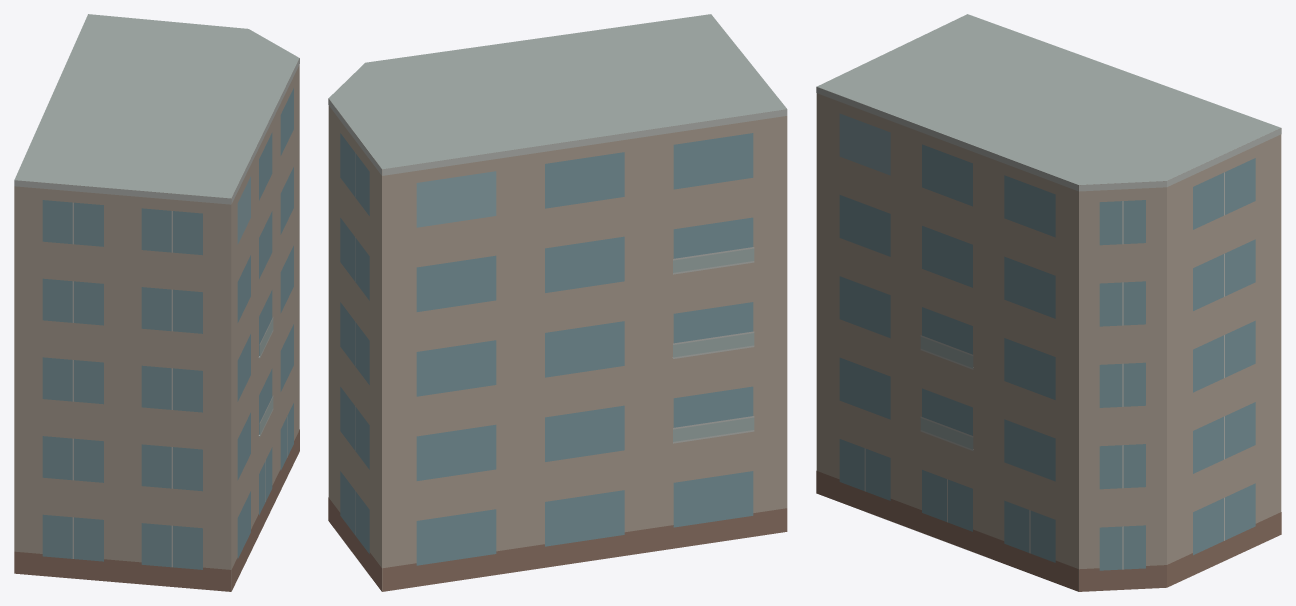
Rendered from survey-upis-33026966.glb.
3 views of the same model, side by side, from view 1: azimuth 30°, elevation 25°; view 2: azimuth 150°, elevation 25°; view 3: azimuth 270°, elevation 25° (orthographic). The views are drawn at different scales.
Parts seen in each view (by area): view 1: survey-upis-33026966.tmp; view 2: survey-upis-33026966.tmp; view 3: survey-upis-33026966.tmp.
Part boxes in pixels (x1,y1,x2,y2): survey-upis-33026966.tmp: (14, 14, 299, 591); survey-upis-33026966.tmp: (328, 14, 787, 591); survey-upis-33026966.tmp: (816, 14, 1281, 591).
Size of the model in its own units: 14.09 by 15.6 by 16.17.
